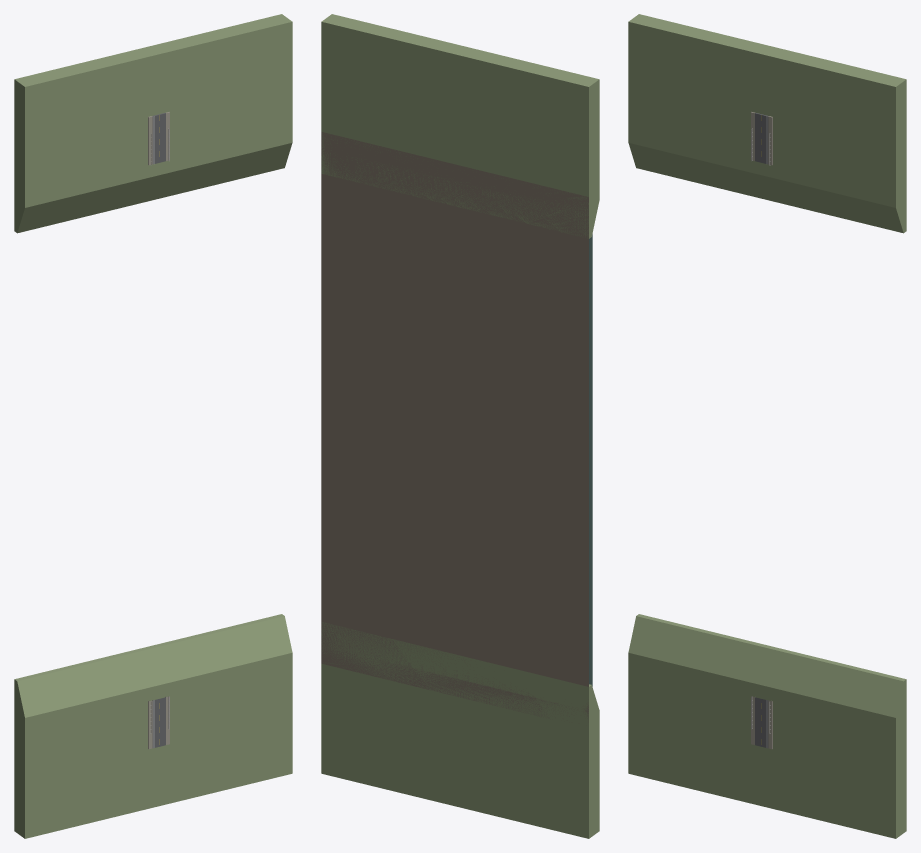
File: LAIN.glb
The picture shows the model from 3 angles, left to right: view 1: azimuth 30°, elevation 25°; view 2: azimuth 150°, elevation 25°; view 3: azimuth 330°, elevation 25°; orthographic projection.
Parts seen in each view (by area): view 1: LAIN_tanah, LAIN_aspal, LAIN_bahu; view 2: LAIN_lumpur, LAIN_tanah, LAIN_air; view 3: LAIN_tanah, LAIN_aspal, LAIN_bahu.
Boxes of the visible parts, <box> form: LAIN_tanah: <box>14,14,292,838</box>; LAIN_aspal: <box>152,113,165,748</box>; LAIN_bahu: <box>148,112,169,749</box>; LAIN_lumpur: <box>321,132,588,720</box>; LAIN_tanah: <box>321,14,599,838</box>; LAIN_air: <box>589,234,592,686</box>; LAIN_tanah: <box>628,14,906,838</box>; LAIN_aspal: <box>755,113,768,748</box>; LAIN_bahu: <box>751,112,772,749</box>.
Bounding box in the file's own units: 140 × 376 × 10.96.
